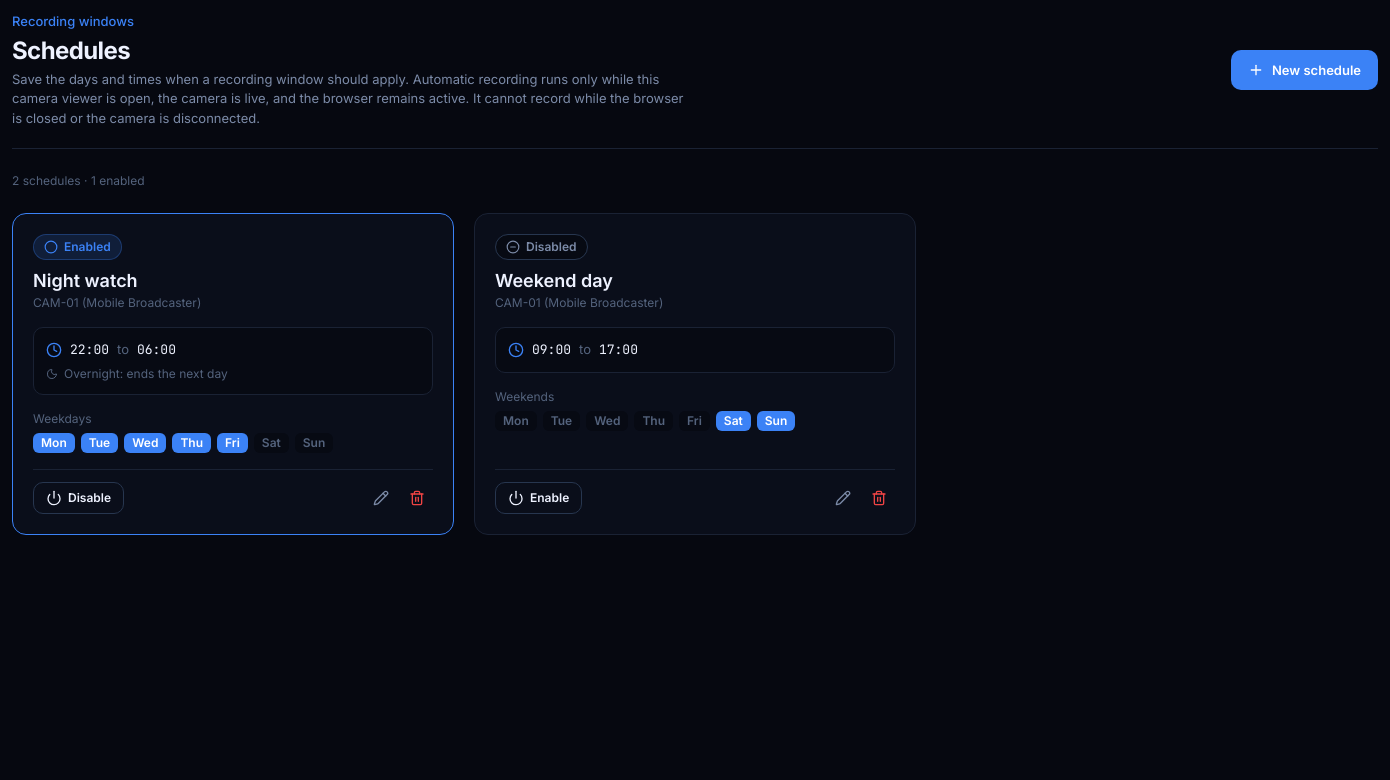
Test case: ScheduleManager › reports a failed toggle and leaves the state unchanged
expect the heading "Night watch" is shown: met, box [33,270,138,291]
Click the button with aria-label "disable schedule night watch" at [78, 498], box [33,482,124,514]
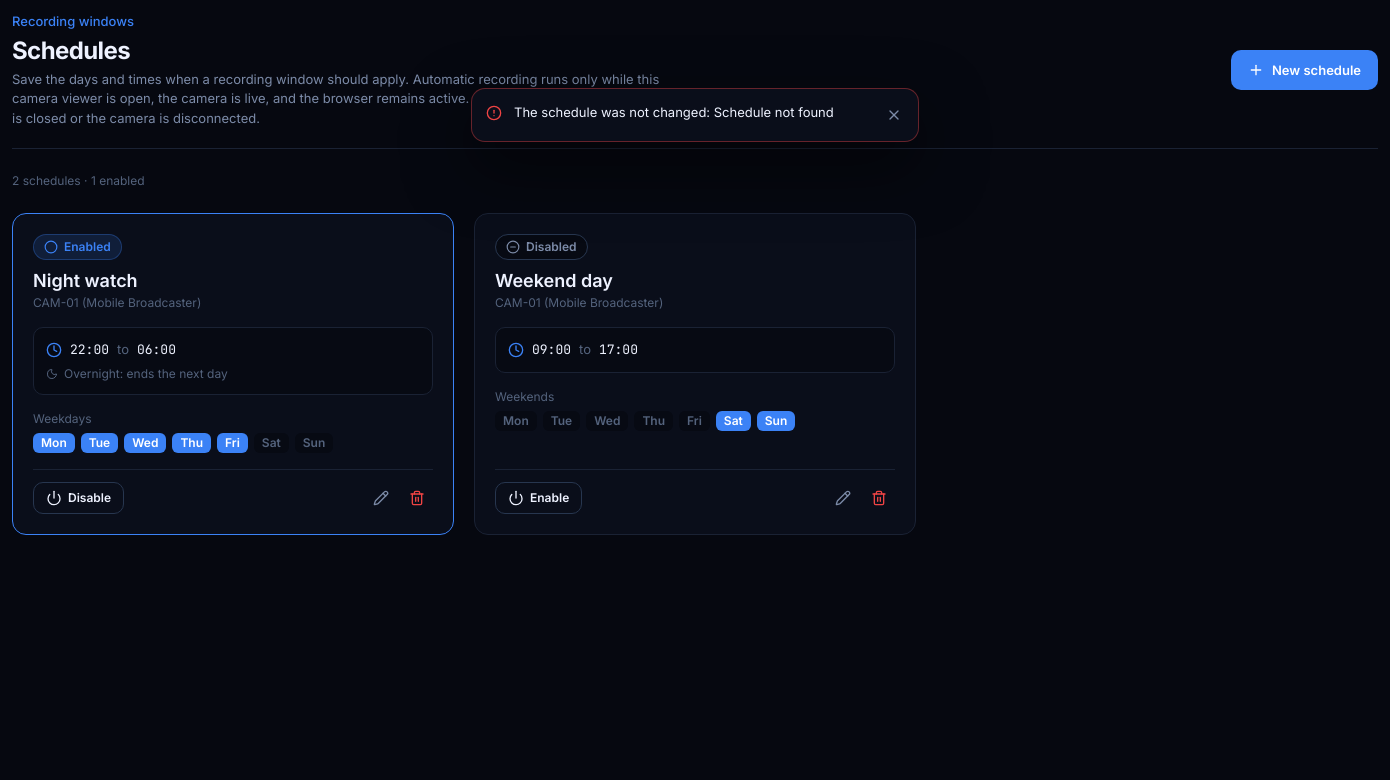
expect the message "The schedule was not changed: Schedule not found" is shown: met, box [471,88,919,142]
